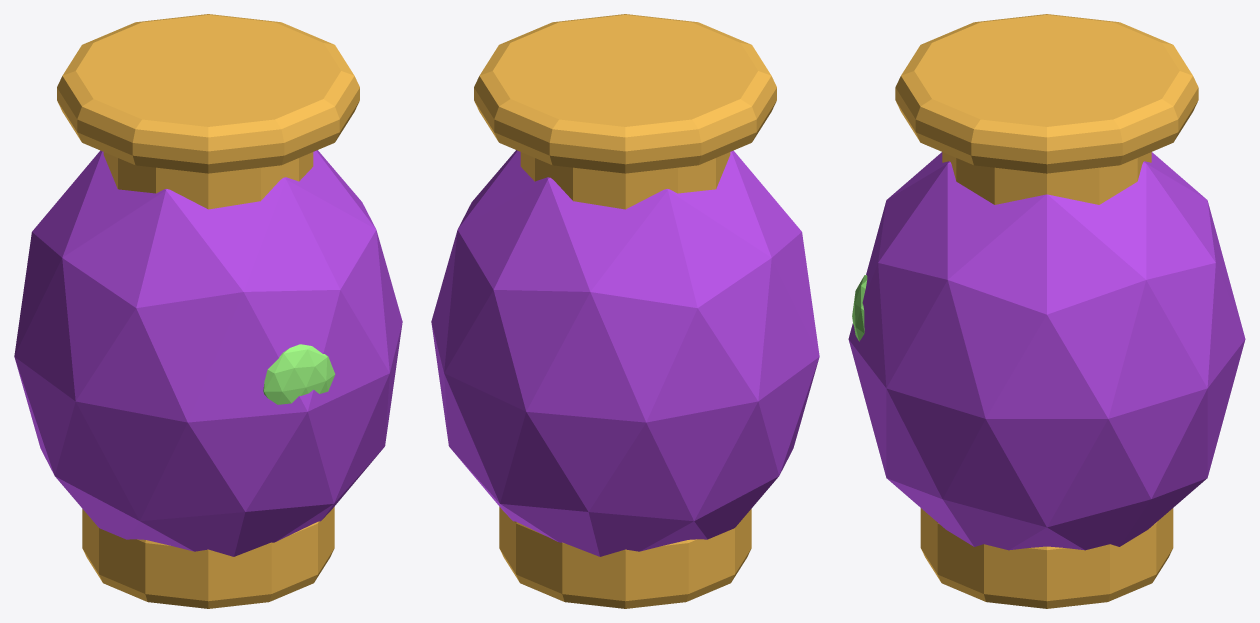
File: urn.glb
3 views of the same model, side by side, from view 1: azimuth 30°, elevation 25°; view 2: azimuth 150°, elevation 25°; view 3: azimuth 270°, elevation 25° (orthographic).
Parts seen in each view (by area): view 1: CursedUrnMesh; view 2: CursedUrnMesh; view 3: CursedUrnMesh.
Part boxes in pixels (x1,y1,x2,y2): CursedUrnMesh: (14, 14, 402, 608); CursedUrnMesh: (431, 14, 819, 608); CursedUrnMesh: (848, 14, 1245, 608).
Bounding box in the file's own units: 1.05 × 1.5 × 1.1.
